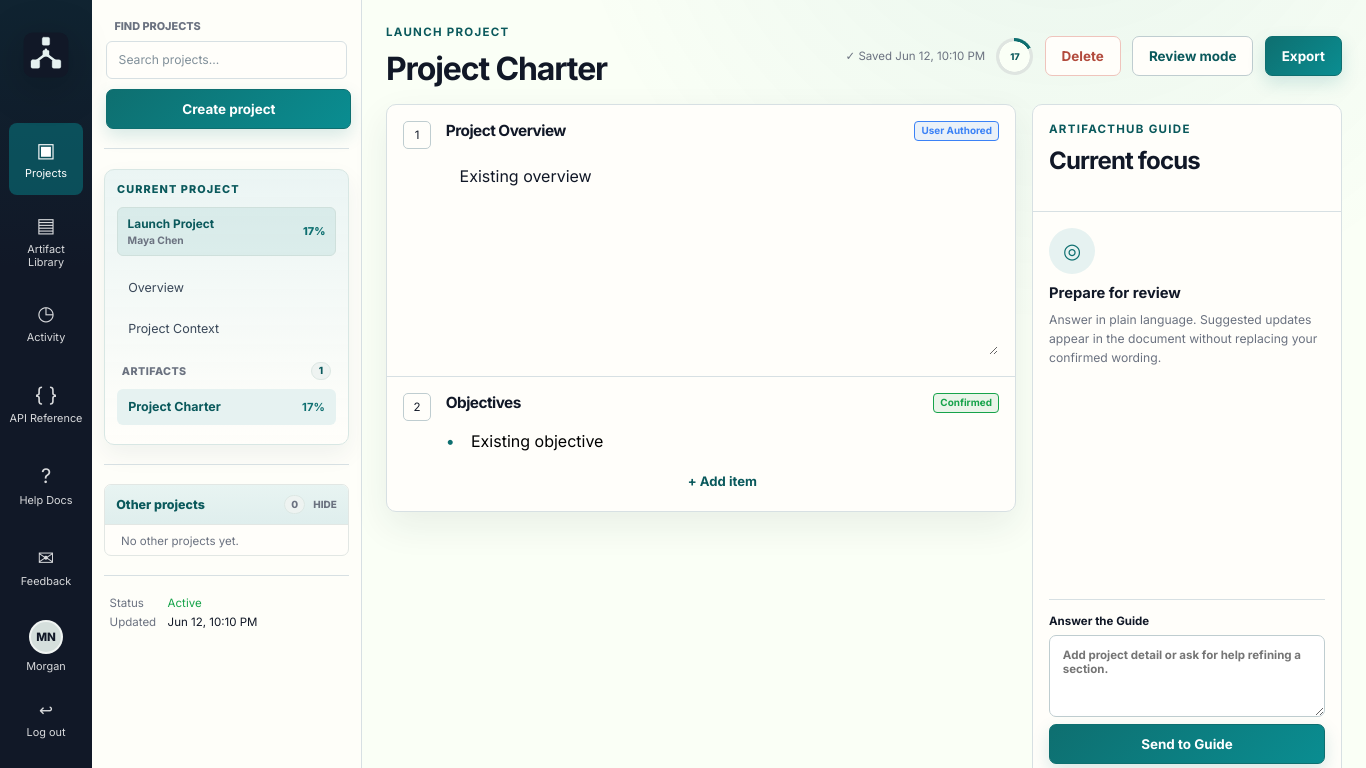
it: React application shell › treats unchanged auto-updates as an informational no-op instead of a success
The image size is (1366, 768).
Type "Draft the Scope section using confirmed project context only." into the text box with placeholder "Add project detail or ask for help refining a section.". click: x=1187, y=676
box: [1049, 635, 1325, 717]
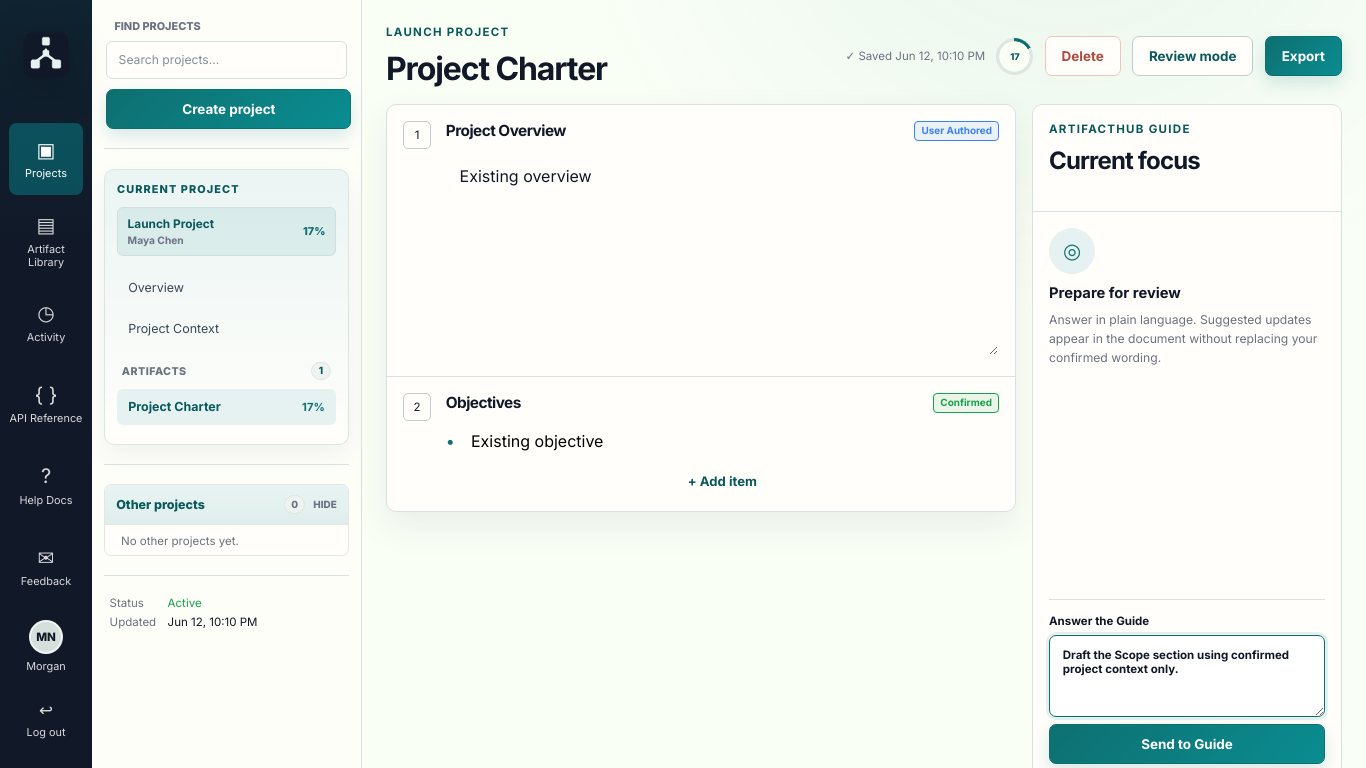
Click the button "Send to Guide". click: x=1187, y=744
box: [1049, 724, 1325, 764]
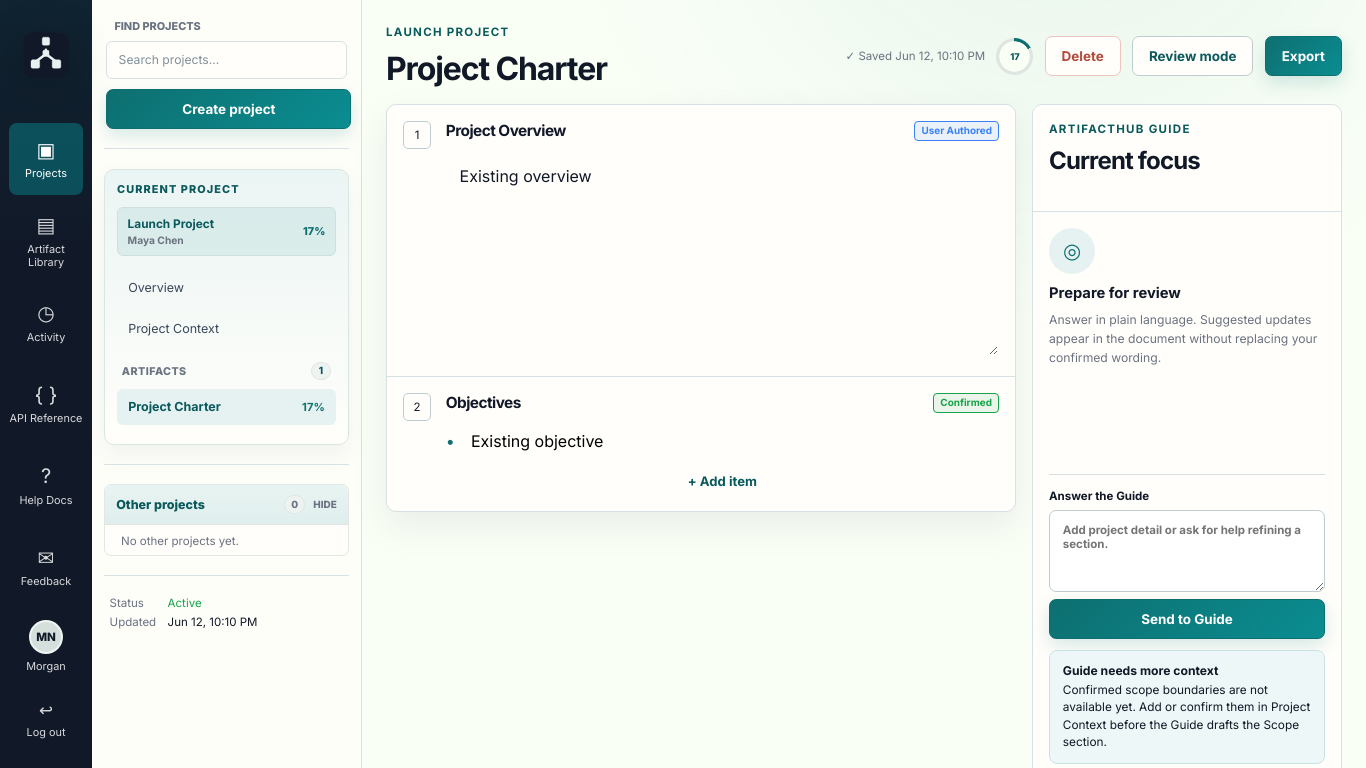
Check: the text "Guide needs more context" is shown, box [1063, 663, 1218, 678]
